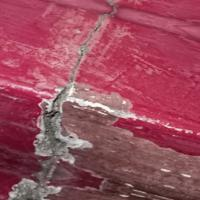crack: (17, 1, 118, 199)
